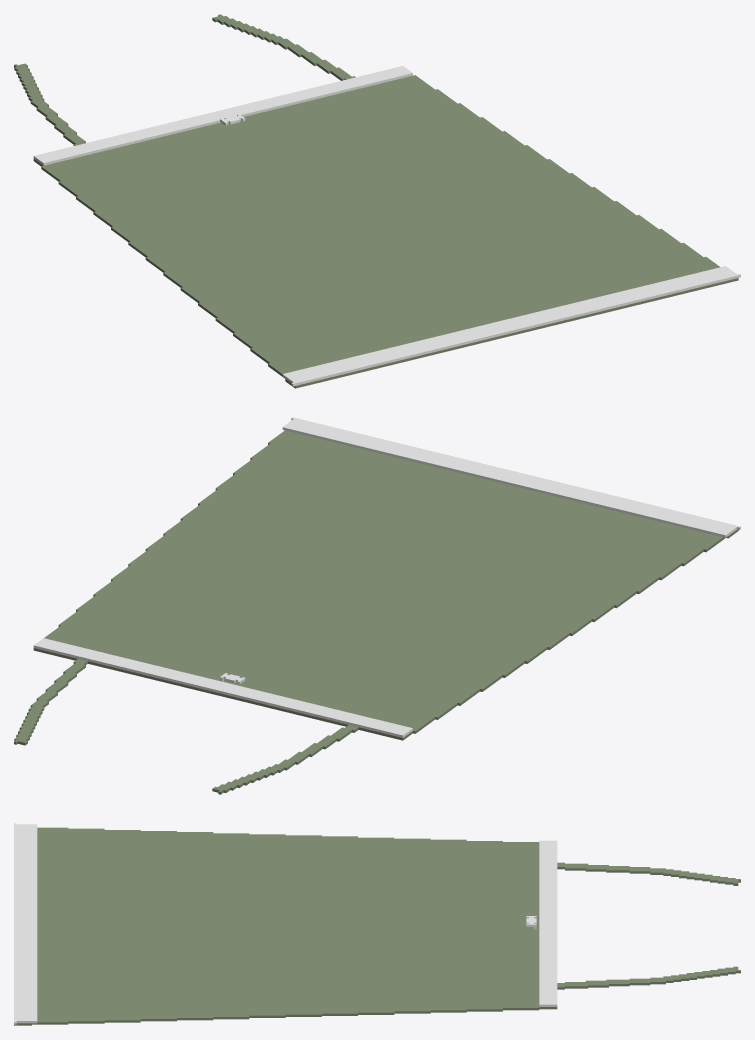
File: camisole.glb
3 renders of one model, top to bottom at view 1: azimuth 30°, elevation 25°; view 2: azimuth 150°, elevation 25°; view 3: azimuth 270°, elevation 25°, orthographic. The views are drawn at different scales.
Parts seen in each view (by area): view 1: camisole:compound; view 2: camisole:compound; view 3: camisole:compound.
Boxes of the visible parts, x1,y1,x2,y2 form: camisole:compound: [14, 14, 740, 388]; camisole:compound: [14, 417, 740, 794]; camisole:compound: [14, 823, 740, 1025].
Bounding box in the file's own units: 0.364 × 0.006 × 0.562.
